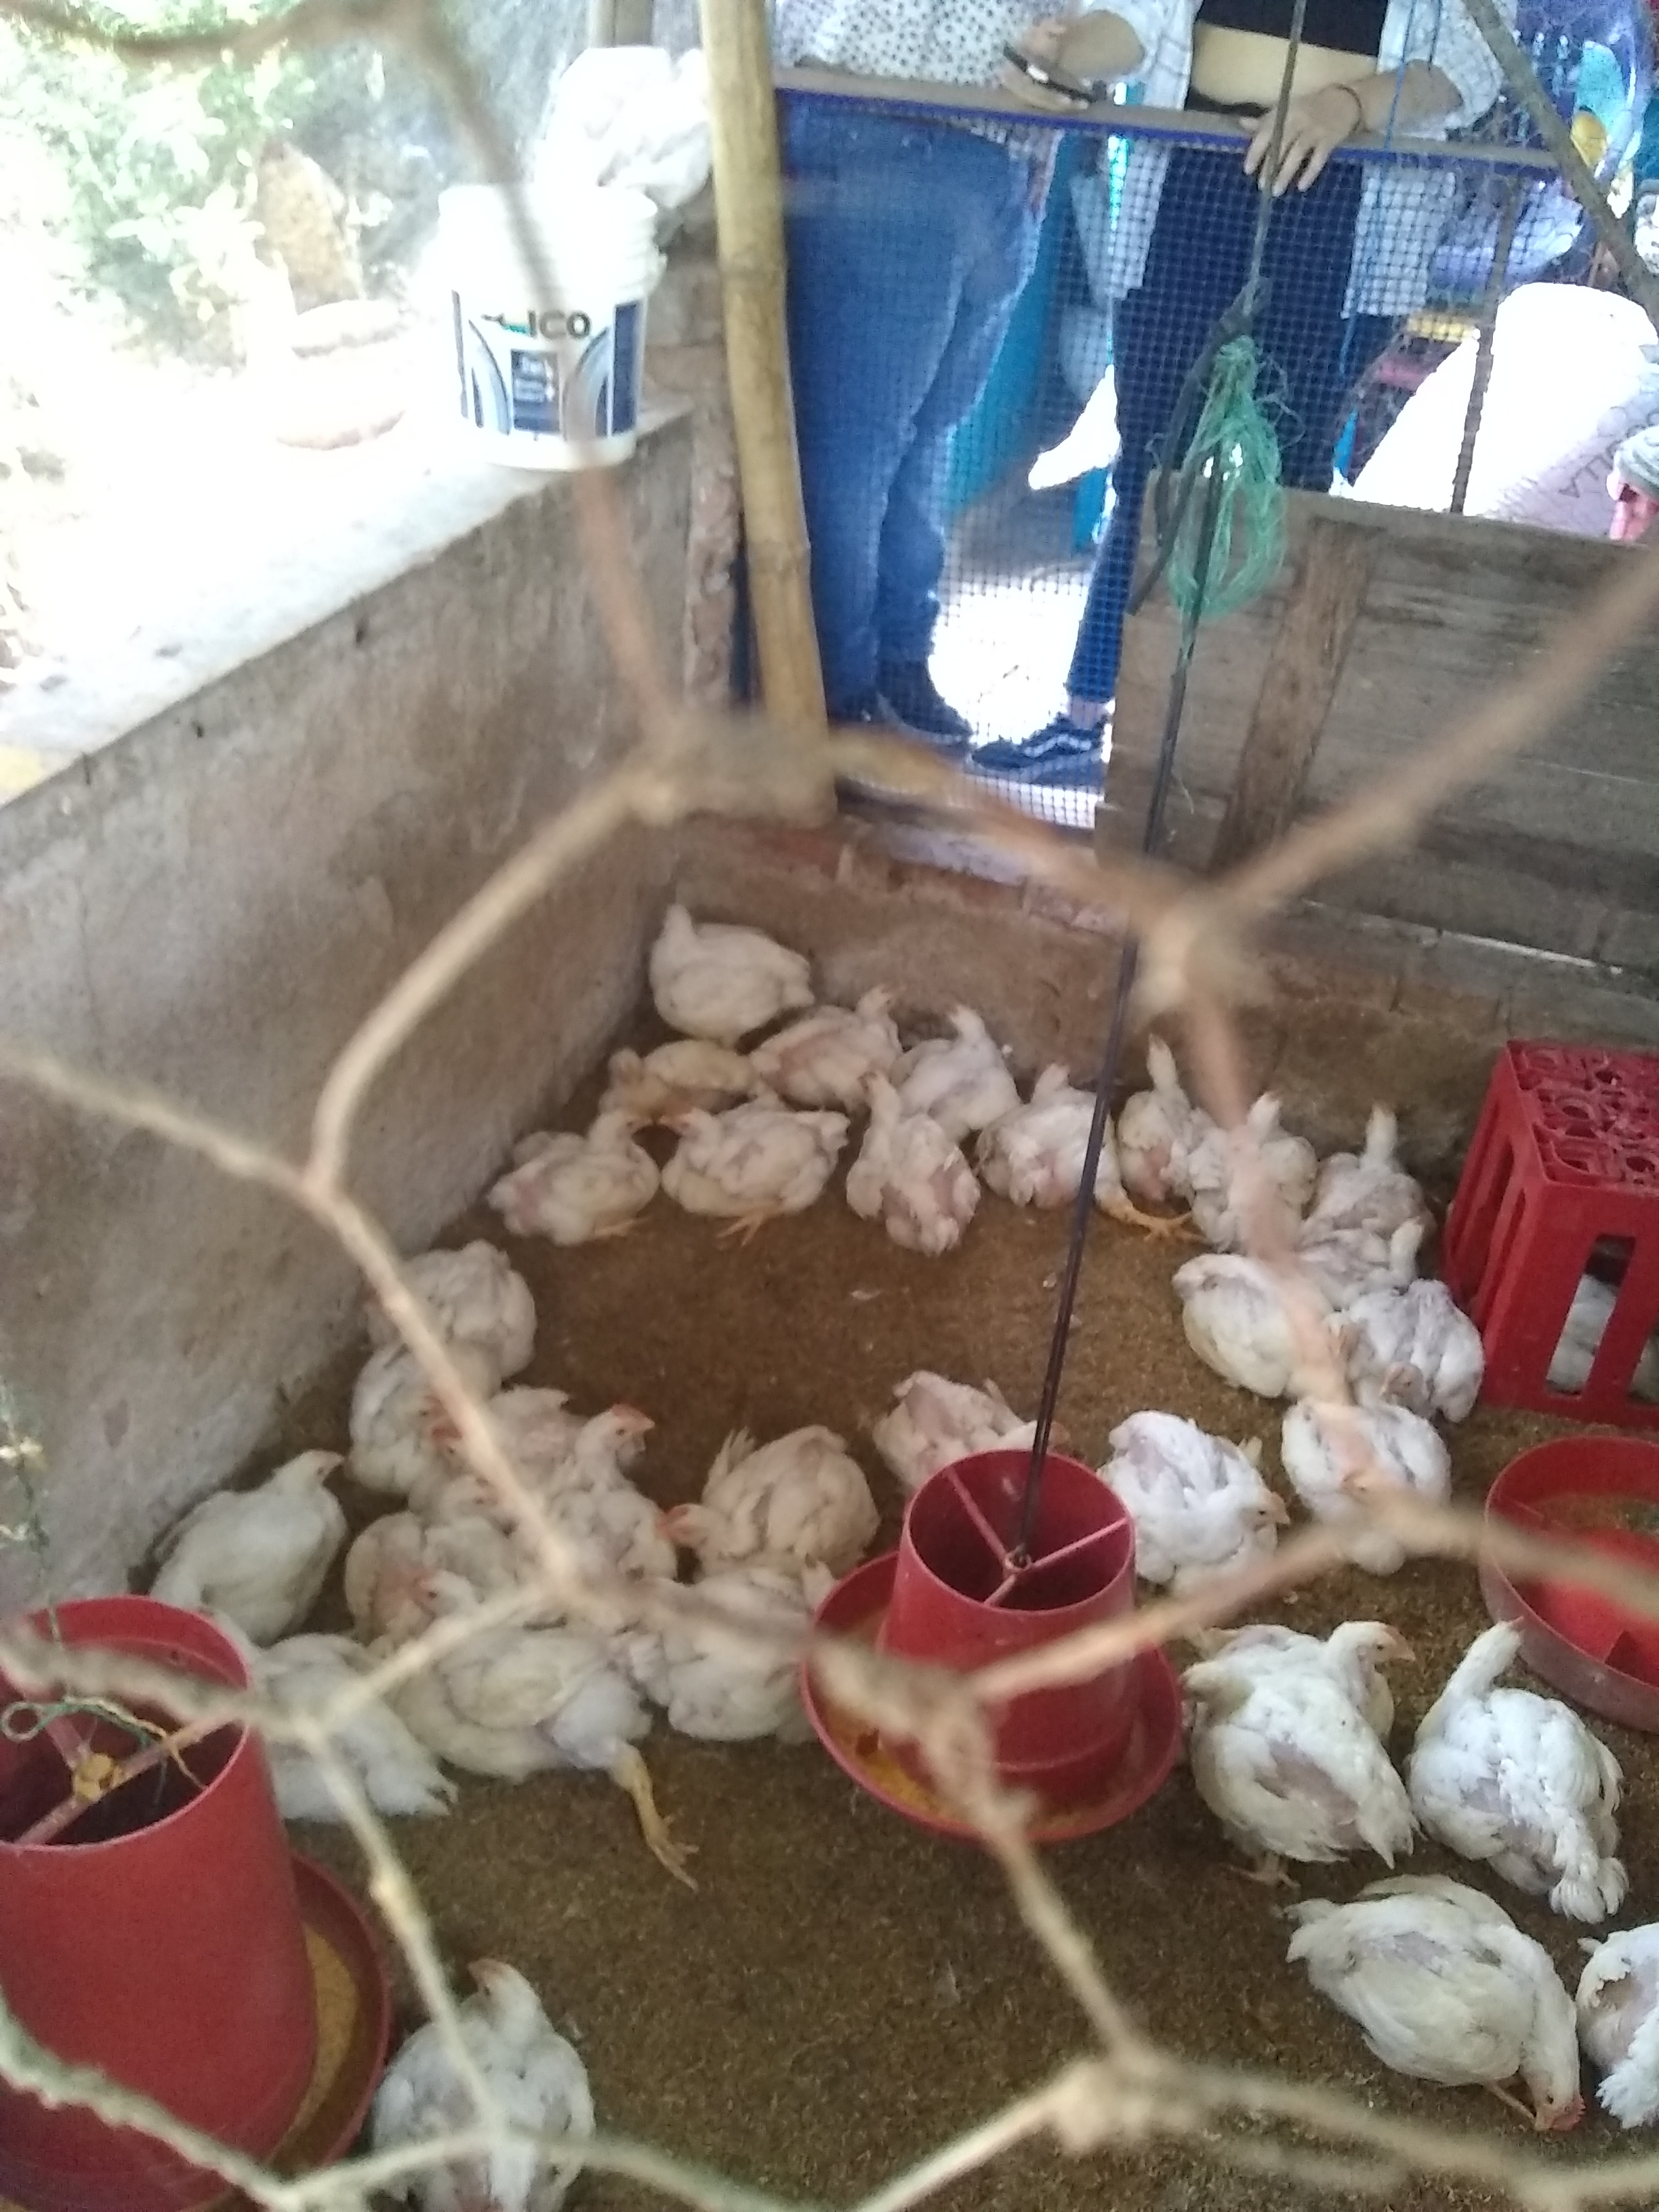Pollos: (1178, 1595, 1436, 1900), (1269, 1879, 1561, 2139), (359, 1937, 617, 2212), (1415, 1609, 1628, 1897), (406, 1569, 674, 1791), (185, 1601, 406, 1853), (1079, 1386, 1297, 1609), (132, 1428, 361, 1637), (1288, 1395, 1481, 1592), (652, 1428, 894, 1583), (859, 1350, 1073, 1508), (312, 1325, 551, 1460), (620, 888, 821, 1024), (493, 1094, 671, 1245), (1302, 1071, 1459, 1235), (861, 1068, 995, 1256), (1164, 1252, 1342, 1379), (993, 1042, 1126, 1211), (1182, 1092, 1337, 1235), (1568, 1919, 1659, 2148), (756, 960, 903, 1099), (355, 1235, 547, 1341), (662, 1108, 843, 1219), (1347, 1284, 1490, 1421), (1101, 1014, 1215, 1186), (584, 1003, 758, 1108), (904, 981, 1014, 1123), (579, 1399, 664, 1503), (432, 1467, 526, 1545), (1380, 1198, 1448, 1292)
